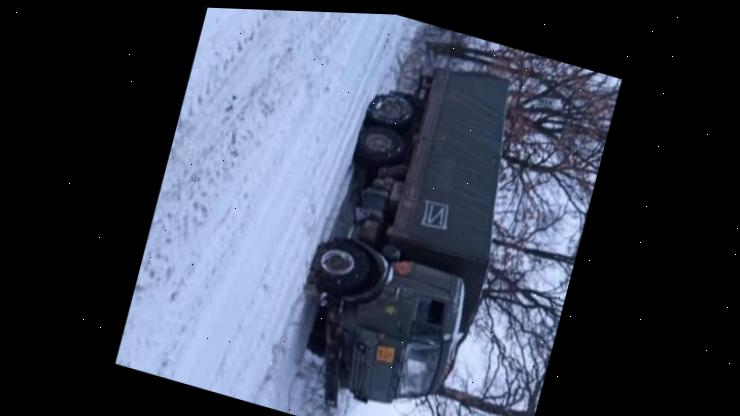truck: (279, 35, 542, 416)
